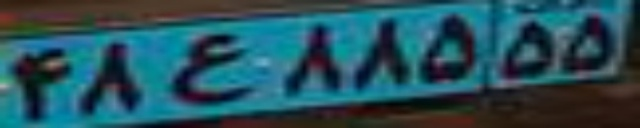4: (11, 46, 70, 121)
5: (418, 15, 476, 83), (559, 14, 618, 73), (500, 23, 554, 79)
8: (279, 23, 341, 94), (78, 43, 139, 112), (355, 17, 409, 89)
ain: (168, 33, 253, 103)
